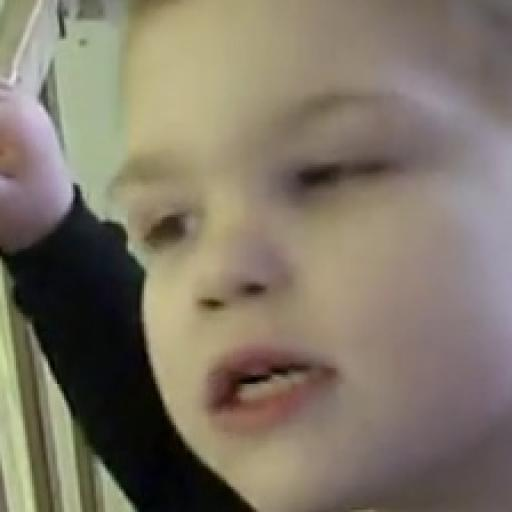Autism: (93, 2, 512, 512)
